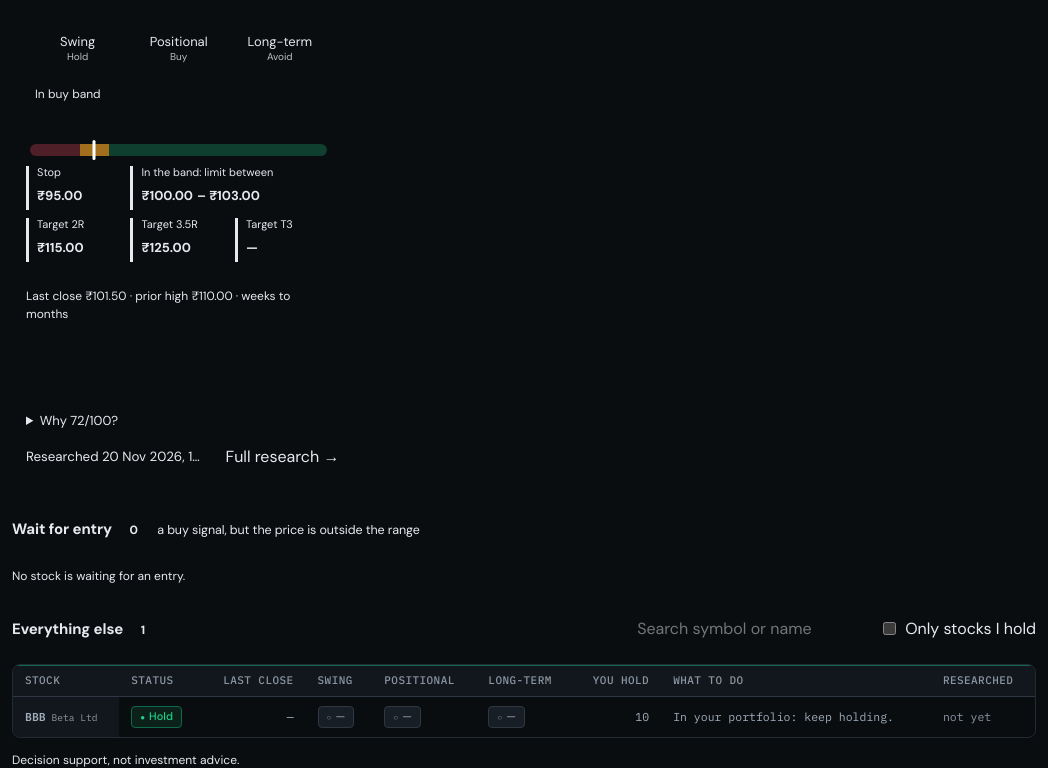
Scenario: DailyReport · compact payload, full card on demand › fetches a card in full only when its Why section is opened, and shows its parts
(page scrolled)
Click the heading "Why 72/100?": point(79, 421) [40,412,118,430]
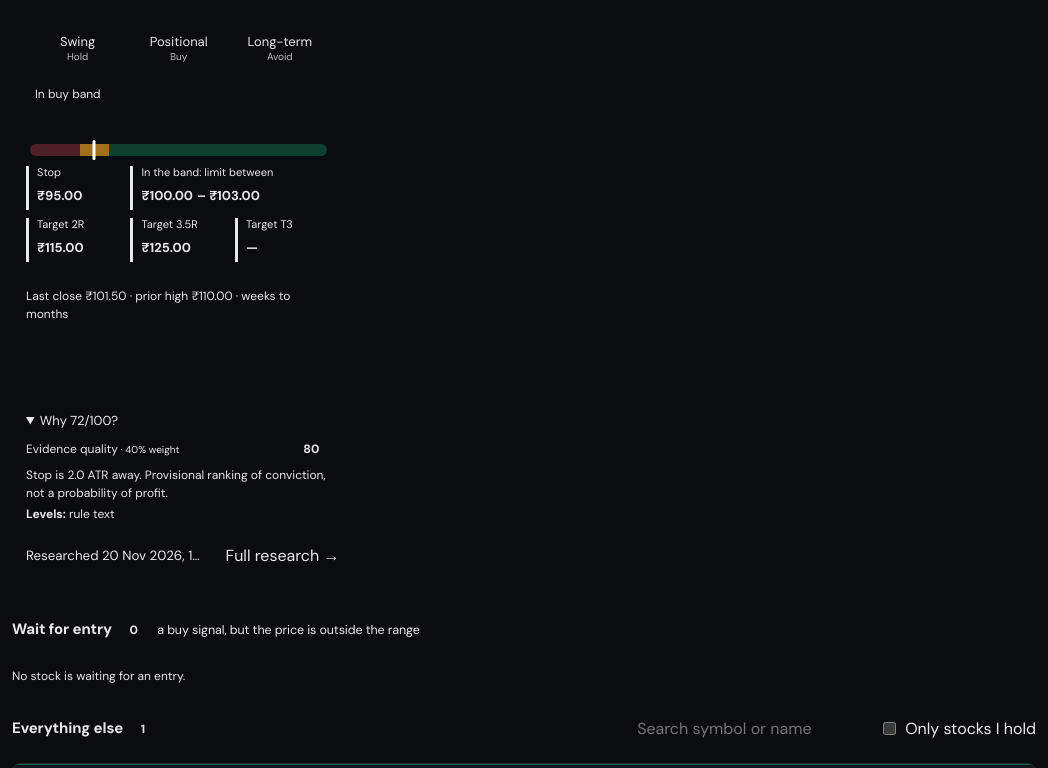
Expected: the text "Evidence quality · 40% weight" is shown, [26,442,197,458]
